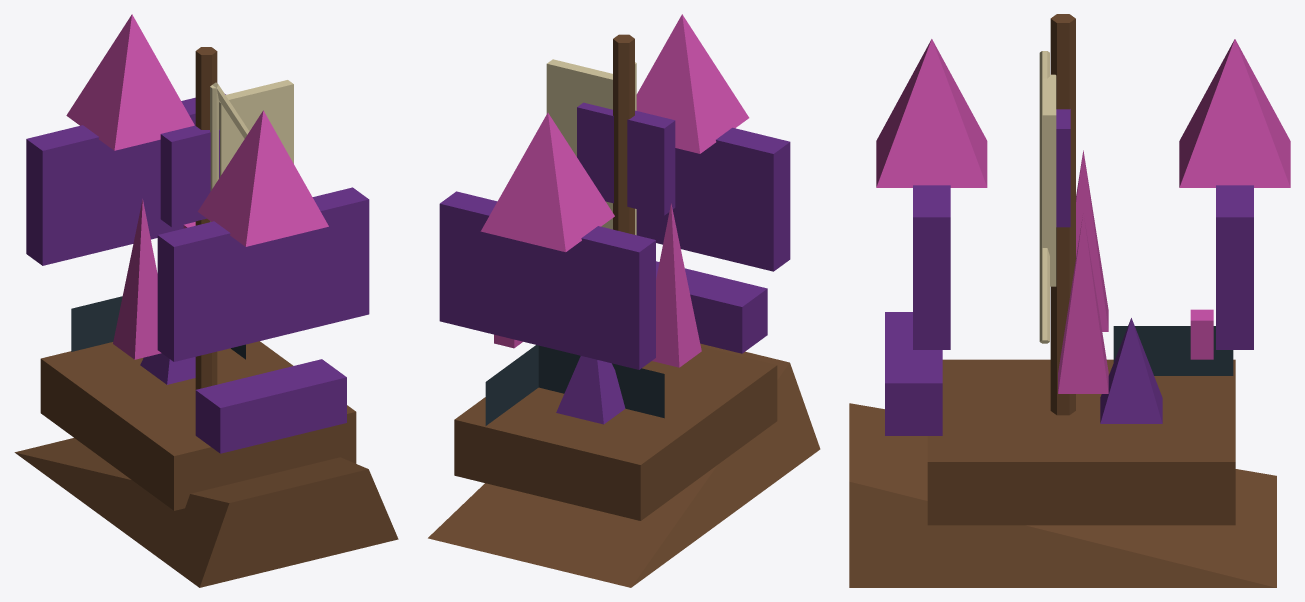
File: legendary-warship.obj
The picture shows the model from 3 angles, left to right: view 1: azimuth 30°, elevation 25°; view 2: azimuth 150°, elevation 25°; view 3: azimuth 270°, elevation 25°; orthographic projection. The views are drawn at different scales.
Parts seen in each view (by area): view 1: ship; view 2: ship; view 3: ship.
Part boxes in pixels (x1=…): ship: x1=14, y1=14, x2=398, y2=587; ship: x1=428, y1=14, x2=820, y2=587; ship: x1=849, y1=14, x2=1290, y2=587.
Size of the model in its own units: 1.13 by 2.24 by 1.75.
